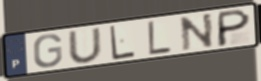G: (33, 33, 64, 69)
L: (108, 24, 137, 61), (146, 19, 173, 56)
N: (178, 12, 216, 53)
P: (215, 7, 253, 48)
U: (66, 26, 104, 65)
